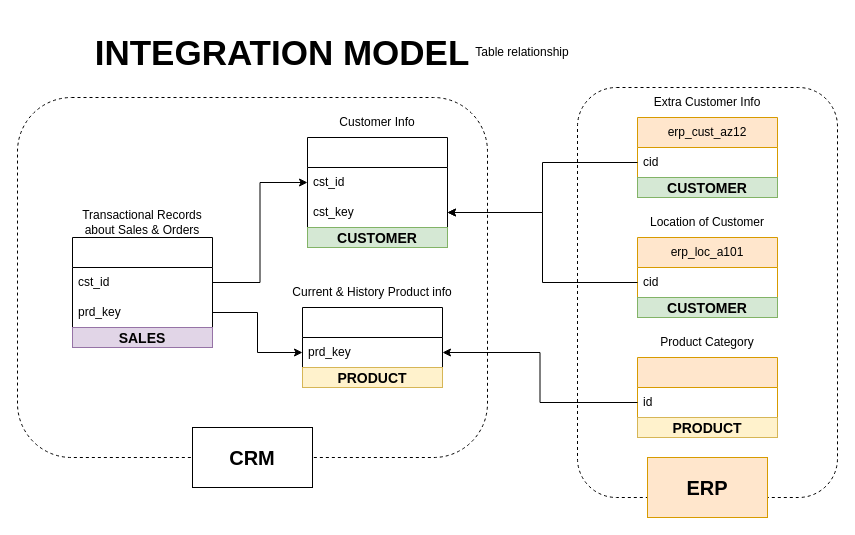
Some shapes in this 855 by 535 pixel diagram are drawn without their labels. The shapes that lost their labels are listed below. From the top down, each one's box as (x1, y1, x2, y2) in pixels, then its label:
(306, 136, 448, 228): crm_cst_info
(72, 236, 212, 328): crm_sales_details
(302, 306, 442, 368): crm_prd_id
(636, 356, 778, 418): erp_px_cat_g1v2
